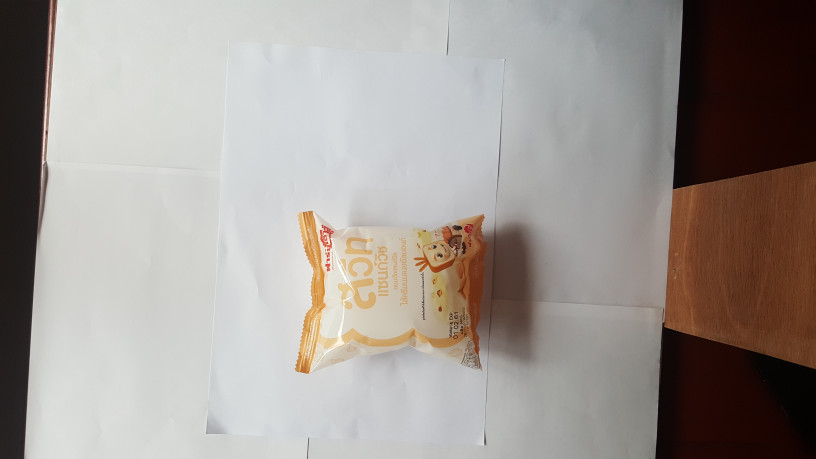farmhouse-sweetsandwich-almond: (280, 207, 493, 379)
